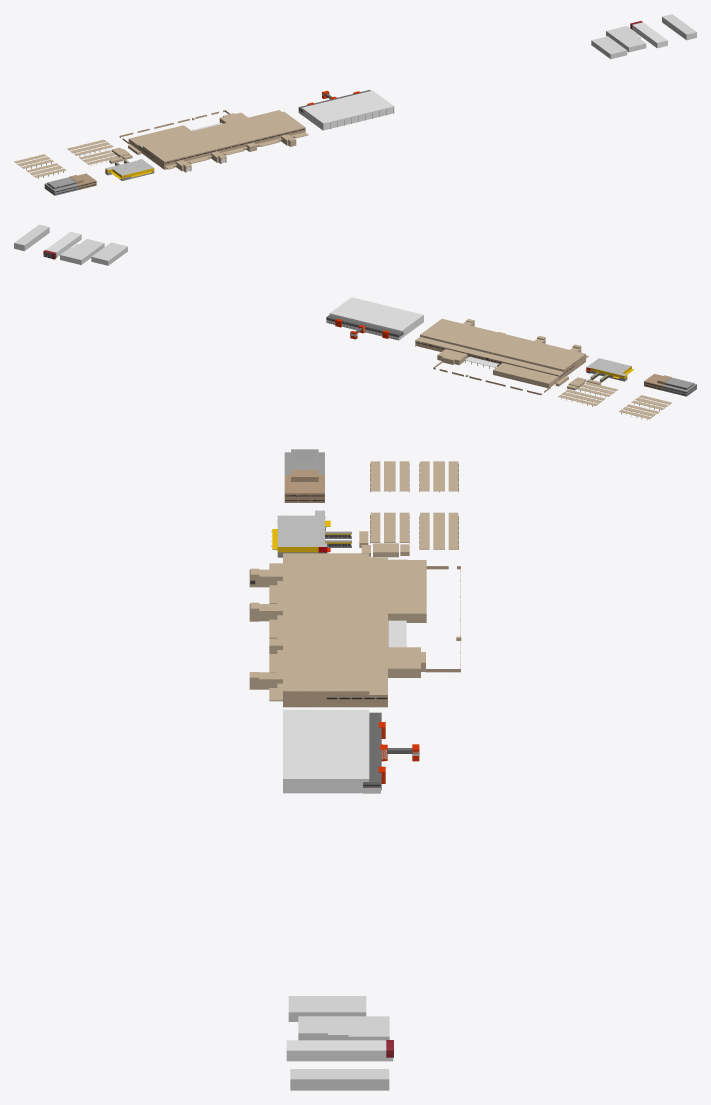
File: oerk-cargo-main.gltf
3 renders of one model, top to bottom at view 1: azimuth 30°, elevation 25°; view 2: azimuth 150°, elevation 25°; view 3: azimuth 270°, elevation 25°, orthographic. The views are drawn at different scales.
Parts seen in each view (by area): view 1: Cube.010, Cube, AOC, Cube.077, Cube.018, Cube.023, Cube.076, Cube.075, Cube.071, Cube.061; view 2: Cube.010, Cube, Cube.023, AOC, Cube.077, Cube.018, Cube.076, Cube.075, Cube.071, Cube.024; view 3: Cube.010, Cube, Cube.023, Cube.077, Cube.071, Cube.075, AOC, Cube.018, Cube.076, Cube.061, Cube.024, Cube.027.
Boxes of the visible parts, left/top/right/bottom form: Cube.010: left=138, top=110, right=305, bottom=169; Cube: left=301, top=90, right=394, bottom=130; AOC: left=44, top=173, right=96, bottom=195; Cube.077: left=606, top=26, right=646, bottom=52; Cube.018: left=105, top=159, right=154, bottom=180; Cube.023: left=128, top=125, right=191, bottom=149; Cube.076: left=591, top=36, right=627, bottom=59; Cube.075: left=662, top=14, right=696, bottom=40; Cube.071: left=632, top=22, right=667, bottom=48; Cube.061: left=165, top=132, right=308, bottom=169; Cube.010: left=415, top=318, right=585, bottom=380; Cube: left=329, top=297, right=423, bottom=336; Cube.023: left=493, top=363, right=558, bottom=388; AOC: left=644, top=374, right=696, bottom=396; Cube.077: left=60, top=239, right=104, bottom=264; Cube.018: left=589, top=358, right=631, bottom=381; Cube.076: left=91, top=242, right=127, bottom=265; Cube.075: left=14, top=224, right=49, bottom=251; Cube.071: left=46, top=231, right=81, bottom=257; Cube.024: left=437, top=349, right=467, bottom=364; Cube.010: left=283, top=553, right=387, bottom=707; Cube: left=283, top=709, right=369, bottom=793; Cube.023: left=388, top=560, right=426, bottom=622; Cube.077: left=298, top=1016, right=389, bottom=1040; Cube.071: left=286, top=1040, right=393, bottom=1061; Cube.075: left=290, top=1069, right=389, bottom=1090; AOC: left=284, top=449, right=324, bottom=502; Cube.018: left=277, top=510, right=324, bottom=557; Cube.076: left=288, top=996, right=366, bottom=1021; Cube.061: left=269, top=563, right=282, bottom=701; Cube.024: left=388, top=647, right=425, bottom=677; Cube.027: left=363, top=712, right=381, bottom=787.
Bounding box in the file's own units: 1660 × 20.54 × 236.
Materials: 25 (8 with a texture image).
